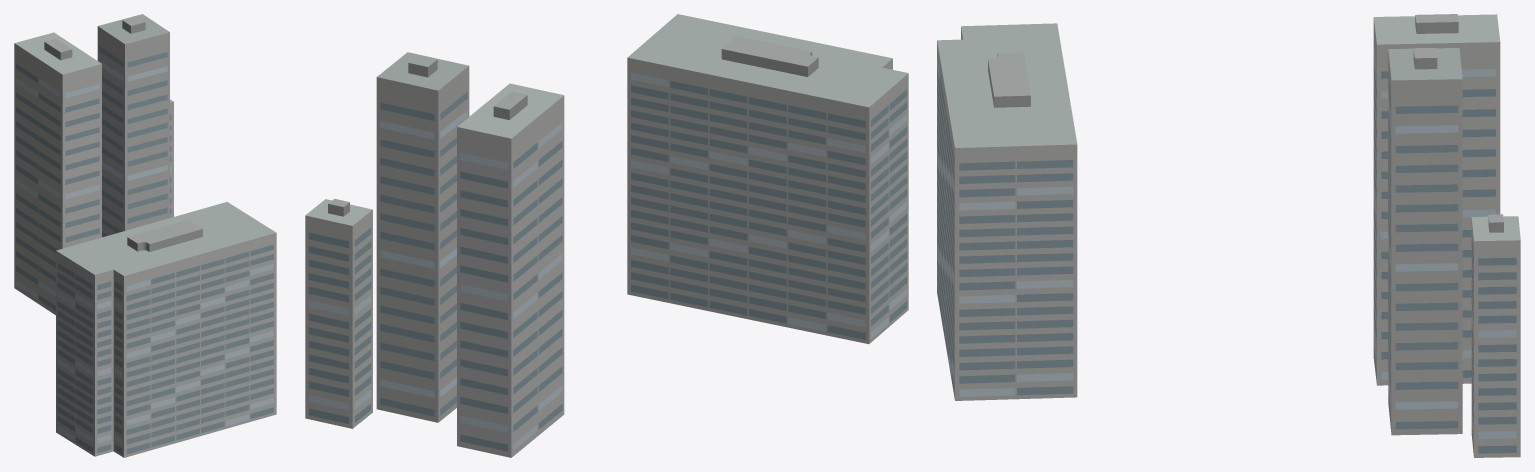
Rendered from apt-a10025003.glb.
3 renders of one model, left to right at view 1: azimuth 30°, elevation 25°; view 2: azimuth 150°, elevation 25°; view 3: azimuth 270°, elevation 25°, orthographic. The views are drawn at different scales.
Parts seen in each view (by area): view 1: apt-a10025003; view 2: apt-a10025003; view 3: apt-a10025003.
Boxes of the visible parts, x1,y1,x2,y2 form: apt-a10025003: (14,14,276,457); apt-a10025003: (305,14,908,457); apt-a10025003: (937,14,1520,457).
Size of the model in its own units: 84.1 by 79 by 114.
